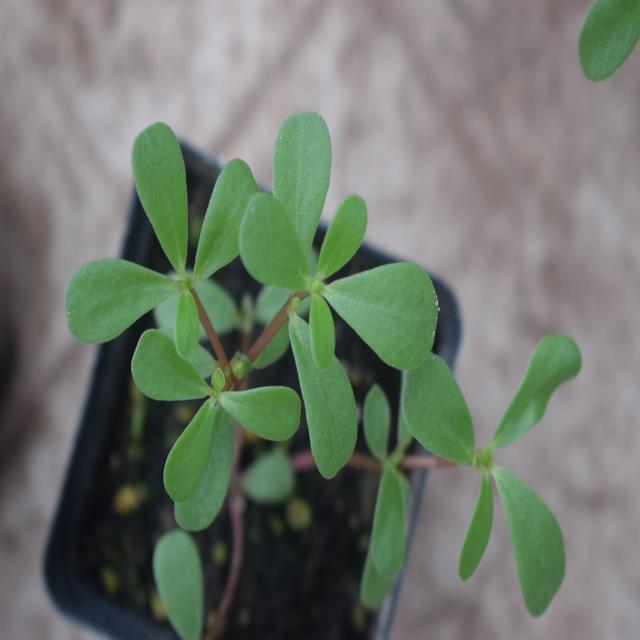purslane: (60, 115, 573, 603)
